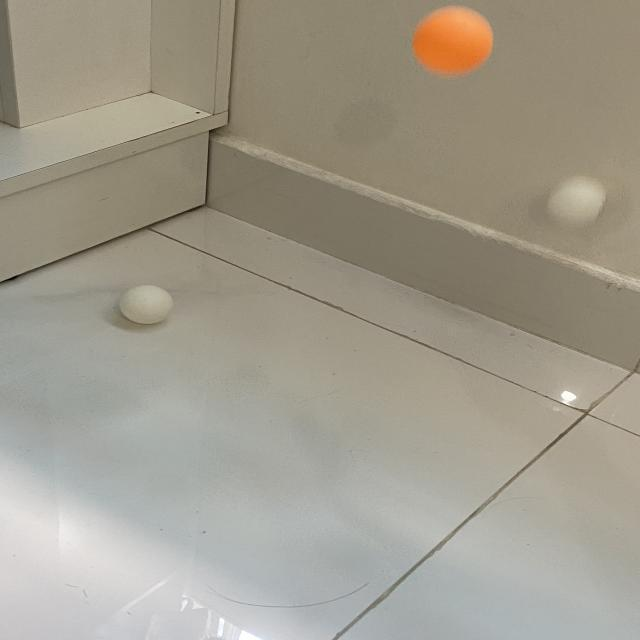ping-pong-ball: (414, 6, 494, 76), (544, 179, 608, 227), (120, 286, 174, 324)
